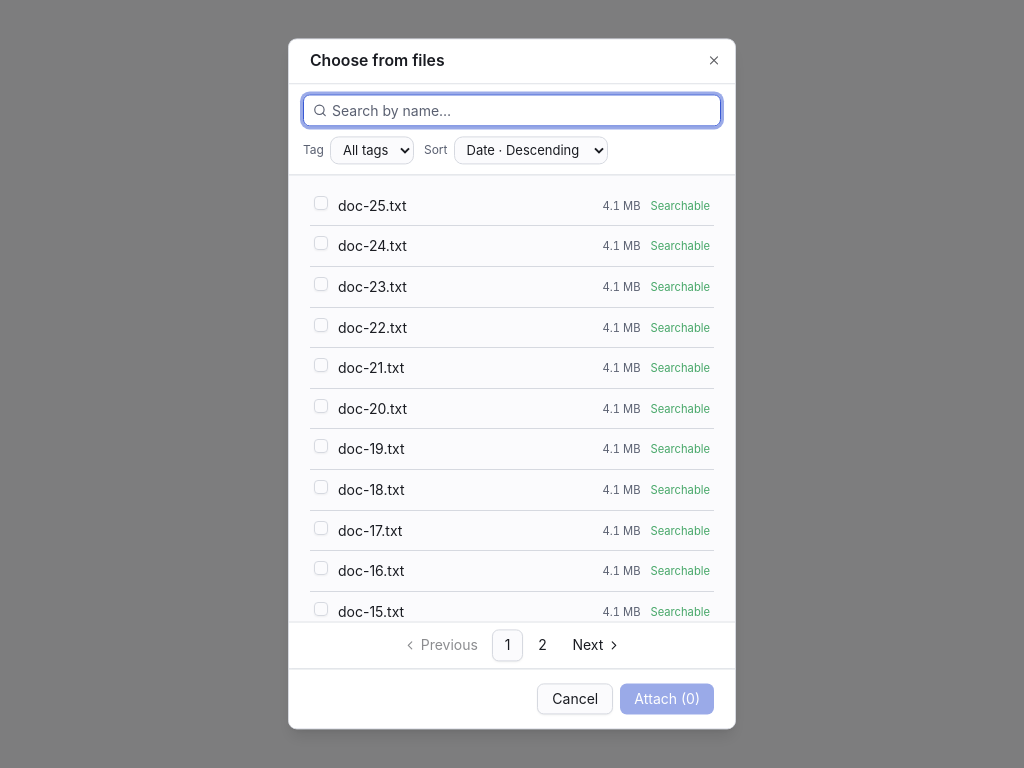
FilePickerSheet › paginates 20 items on desktop and can flip pages
This screenshot has width=1024, height=768.
Expected: the text "doc-25.txt" is shown, [338, 197, 406, 214]
Expected: the text "Python开发技术选型" is not shown
Click the button "Next" at (597, 645), box [562, 630, 631, 661]
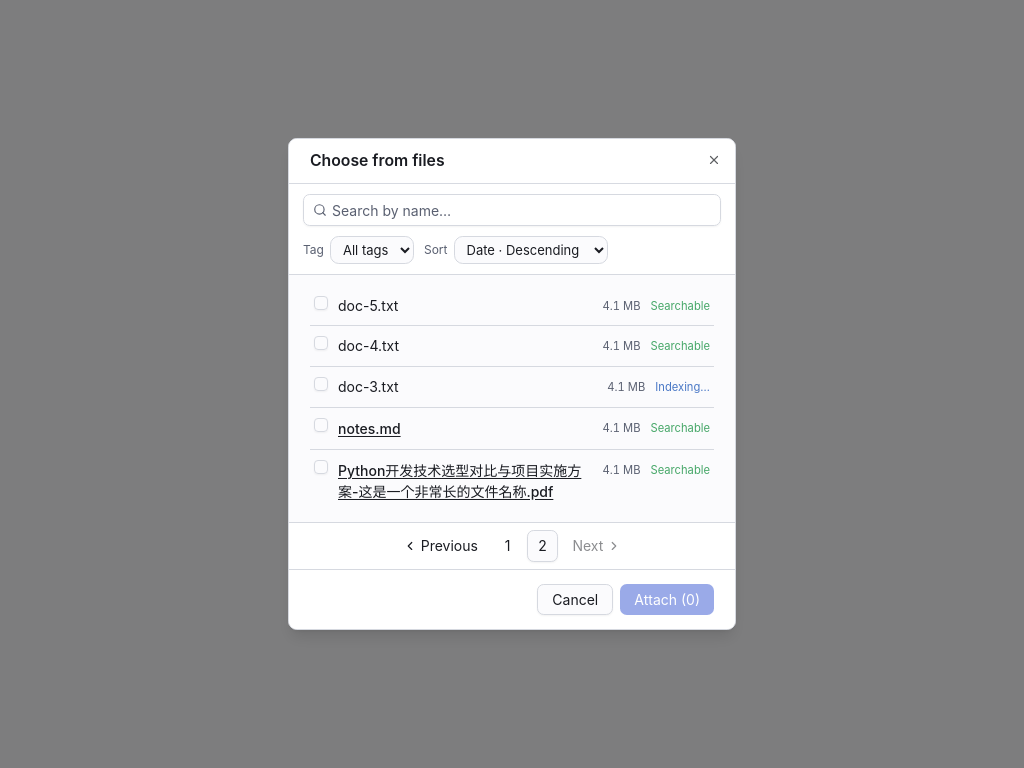
Now the text "doc-5.txt" is shown, box [338, 297, 398, 314]
Now the button "Python开发技术选型对比与项目实施方案-这是一个非常长的文件名称.pdf" is shown, box [338, 460, 592, 502]
